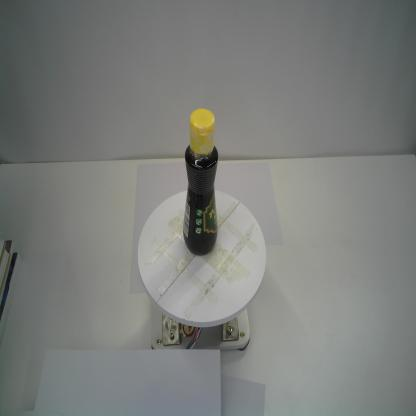Seasoner: (180, 105, 221, 257)
